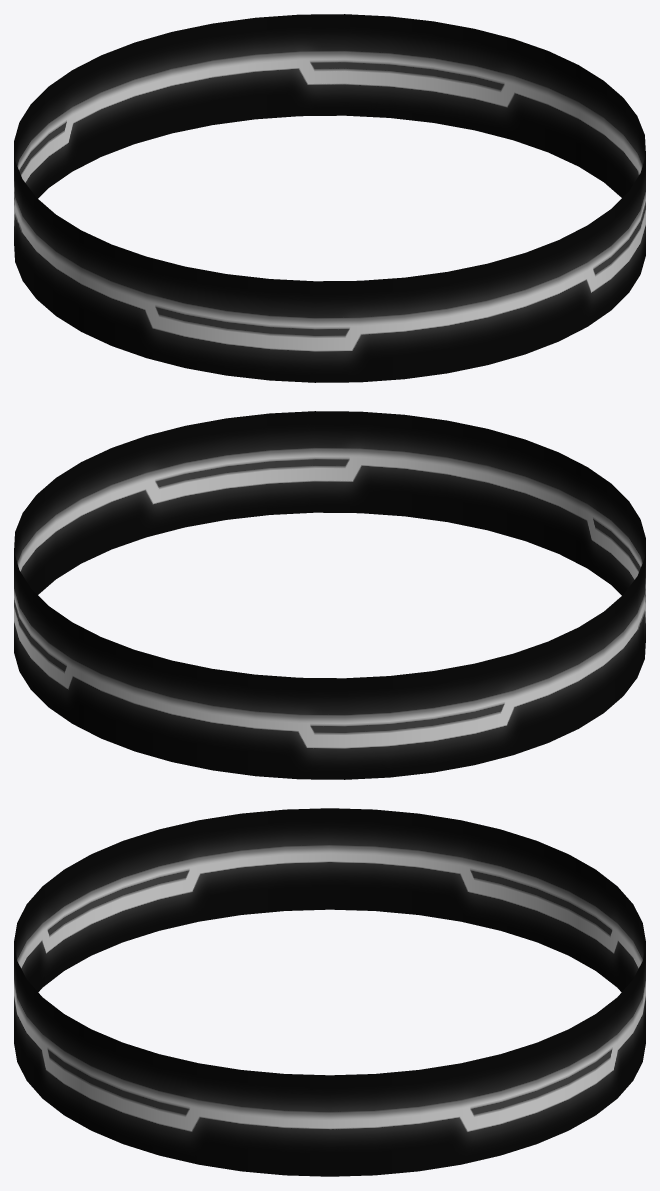
The model's file is Holo_Border_03.FBX.
The picture shows the model from 3 angles, top to bottom: view 1: azimuth 30°, elevation 25°; view 2: azimuth 150°, elevation 25°; view 3: azimuth 270°, elevation 25°; orthographic projection.
Visible parts, largest first — view 1: Holo_Border_03; view 2: Holo_Border_03; view 3: Holo_Border_03.
Boxes of the visible parts, x1=… form: Holo_Border_03: x1=14, y1=14, x2=645, y2=382; Holo_Border_03: x1=14, y1=411, x2=645, y2=779; Holo_Border_03: x1=14, y1=808, x2=645, y2=1176.
Size of the model in its own units: 2.75 by 0.4874 by 2.75.
1 material, 1 textured.
